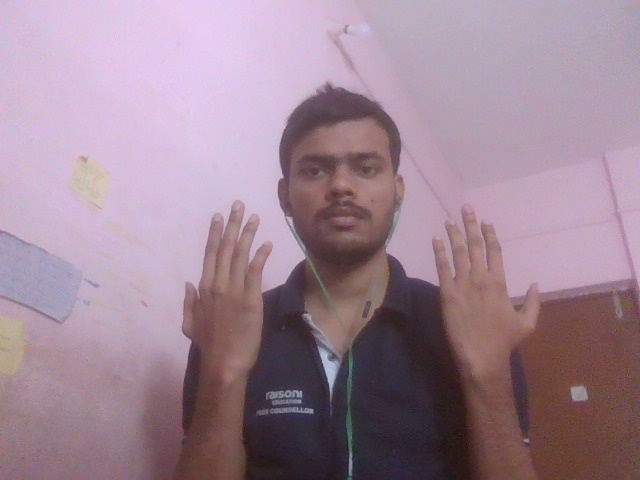allDone: (151, 208, 603, 384)
